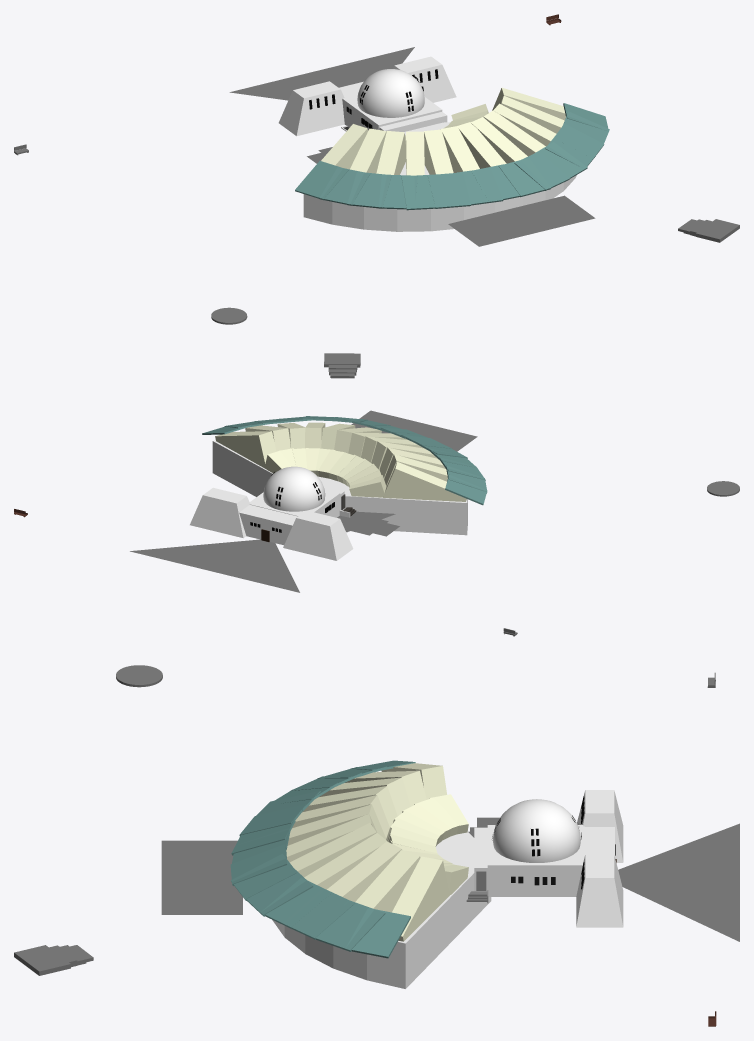
The model's file is nyasta_as.obj.
3 views of the same model, one above another, from view 1: azimuth 30°, elevation 25°; view 2: azimuth 150°, elevation 25°; view 3: azimuth 270°, elevation 25° (orthographic). The views are drawn at different scales.
Parts seen in each view (by area): view 1: Cube.047, Cube.033, syningarsalur, Plane.035, pavement, Sphere, h_hlid, v_hlid, innanhus, Cube, Cube.019, Cylinder; view 2: Cube.033, syningarsalur, pavement, Cube.047, h_hlid, Sphere, v_hlid, Plane.035, adaldyr, Cube, innanhus, Plane.001; view 3: Cube.033, Cube.047, pavement, syningarsalur, Plane.035, Sphere, innanhus, v_hlid, h_hlid, Cube, adaldyr, Cylinder (+1 smaller).
Boxes of the visible parts, x1,y1,x2,y2 form: Cube.047: (295, 103, 609, 210); Cube.033: (321, 87, 565, 175); syningarsalur: (303, 122, 576, 231); Plane.035: (448, 195, 595, 246); pavement: (229, 47, 414, 100); Sphere: (357, 69, 424, 117); h_hlid: (278, 81, 344, 136); v_hlid: (393, 56, 456, 102); innanhus: (342, 94, 442, 130); Cube: (678, 219, 739, 242); Cube.019: (379, 112, 447, 131); Cylinder: (211, 307, 247, 324); Cube.033: (215, 422, 466, 501); syningarsalur: (212, 440, 467, 535); pavement: (130, 539, 299, 592); Cube.047: (202, 416, 487, 505); h_hlid: (283, 510, 353, 560); Sphere: (263, 466, 325, 511); v_hlid: (190, 487, 250, 538); Plane.035: (351, 410, 477, 451); adaldyr: (239, 505, 297, 545); Cube: (324, 353, 360, 378); innanhus: (250, 489, 340, 517); Plane.001: (337, 511, 395, 532); Cube.033: (286, 763, 468, 941); Cube.047: (230, 760, 415, 958); pavement: (618, 823, 739, 941); syningarsalur: (272, 831, 491, 988); Plane.035: (161, 840, 242, 914); Sphere: (493, 799, 580, 862); innanhus: (487, 825, 584, 896); v_hlid: (576, 854, 623, 927); h_hlid: (577, 790, 623, 862); Cube: (14, 945, 93, 975); adaldyr: (584, 827, 614, 856); Cylinder: (116, 665, 162, 687).
Size of the model in its own units: 72.47 by 9.13 by 61.73.
